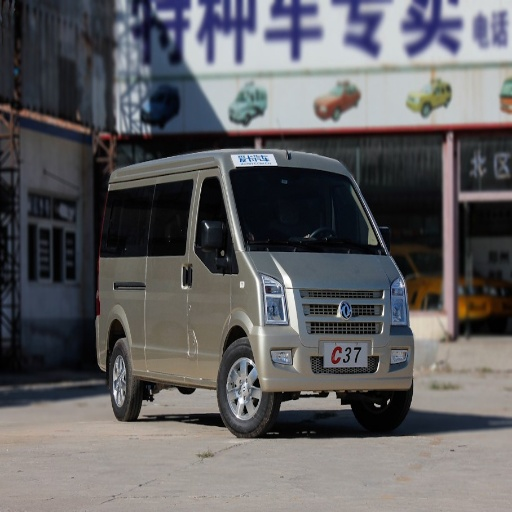front_bumper: (260, 289, 414, 392)
front_glass: (232, 168, 383, 254)
front_right_door: (171, 174, 236, 371)
front_right_light: (262, 281, 293, 325)
tailgate: (271, 62, 369, 104)
trunk: (96, 282, 147, 356), (348, 71, 412, 97)
